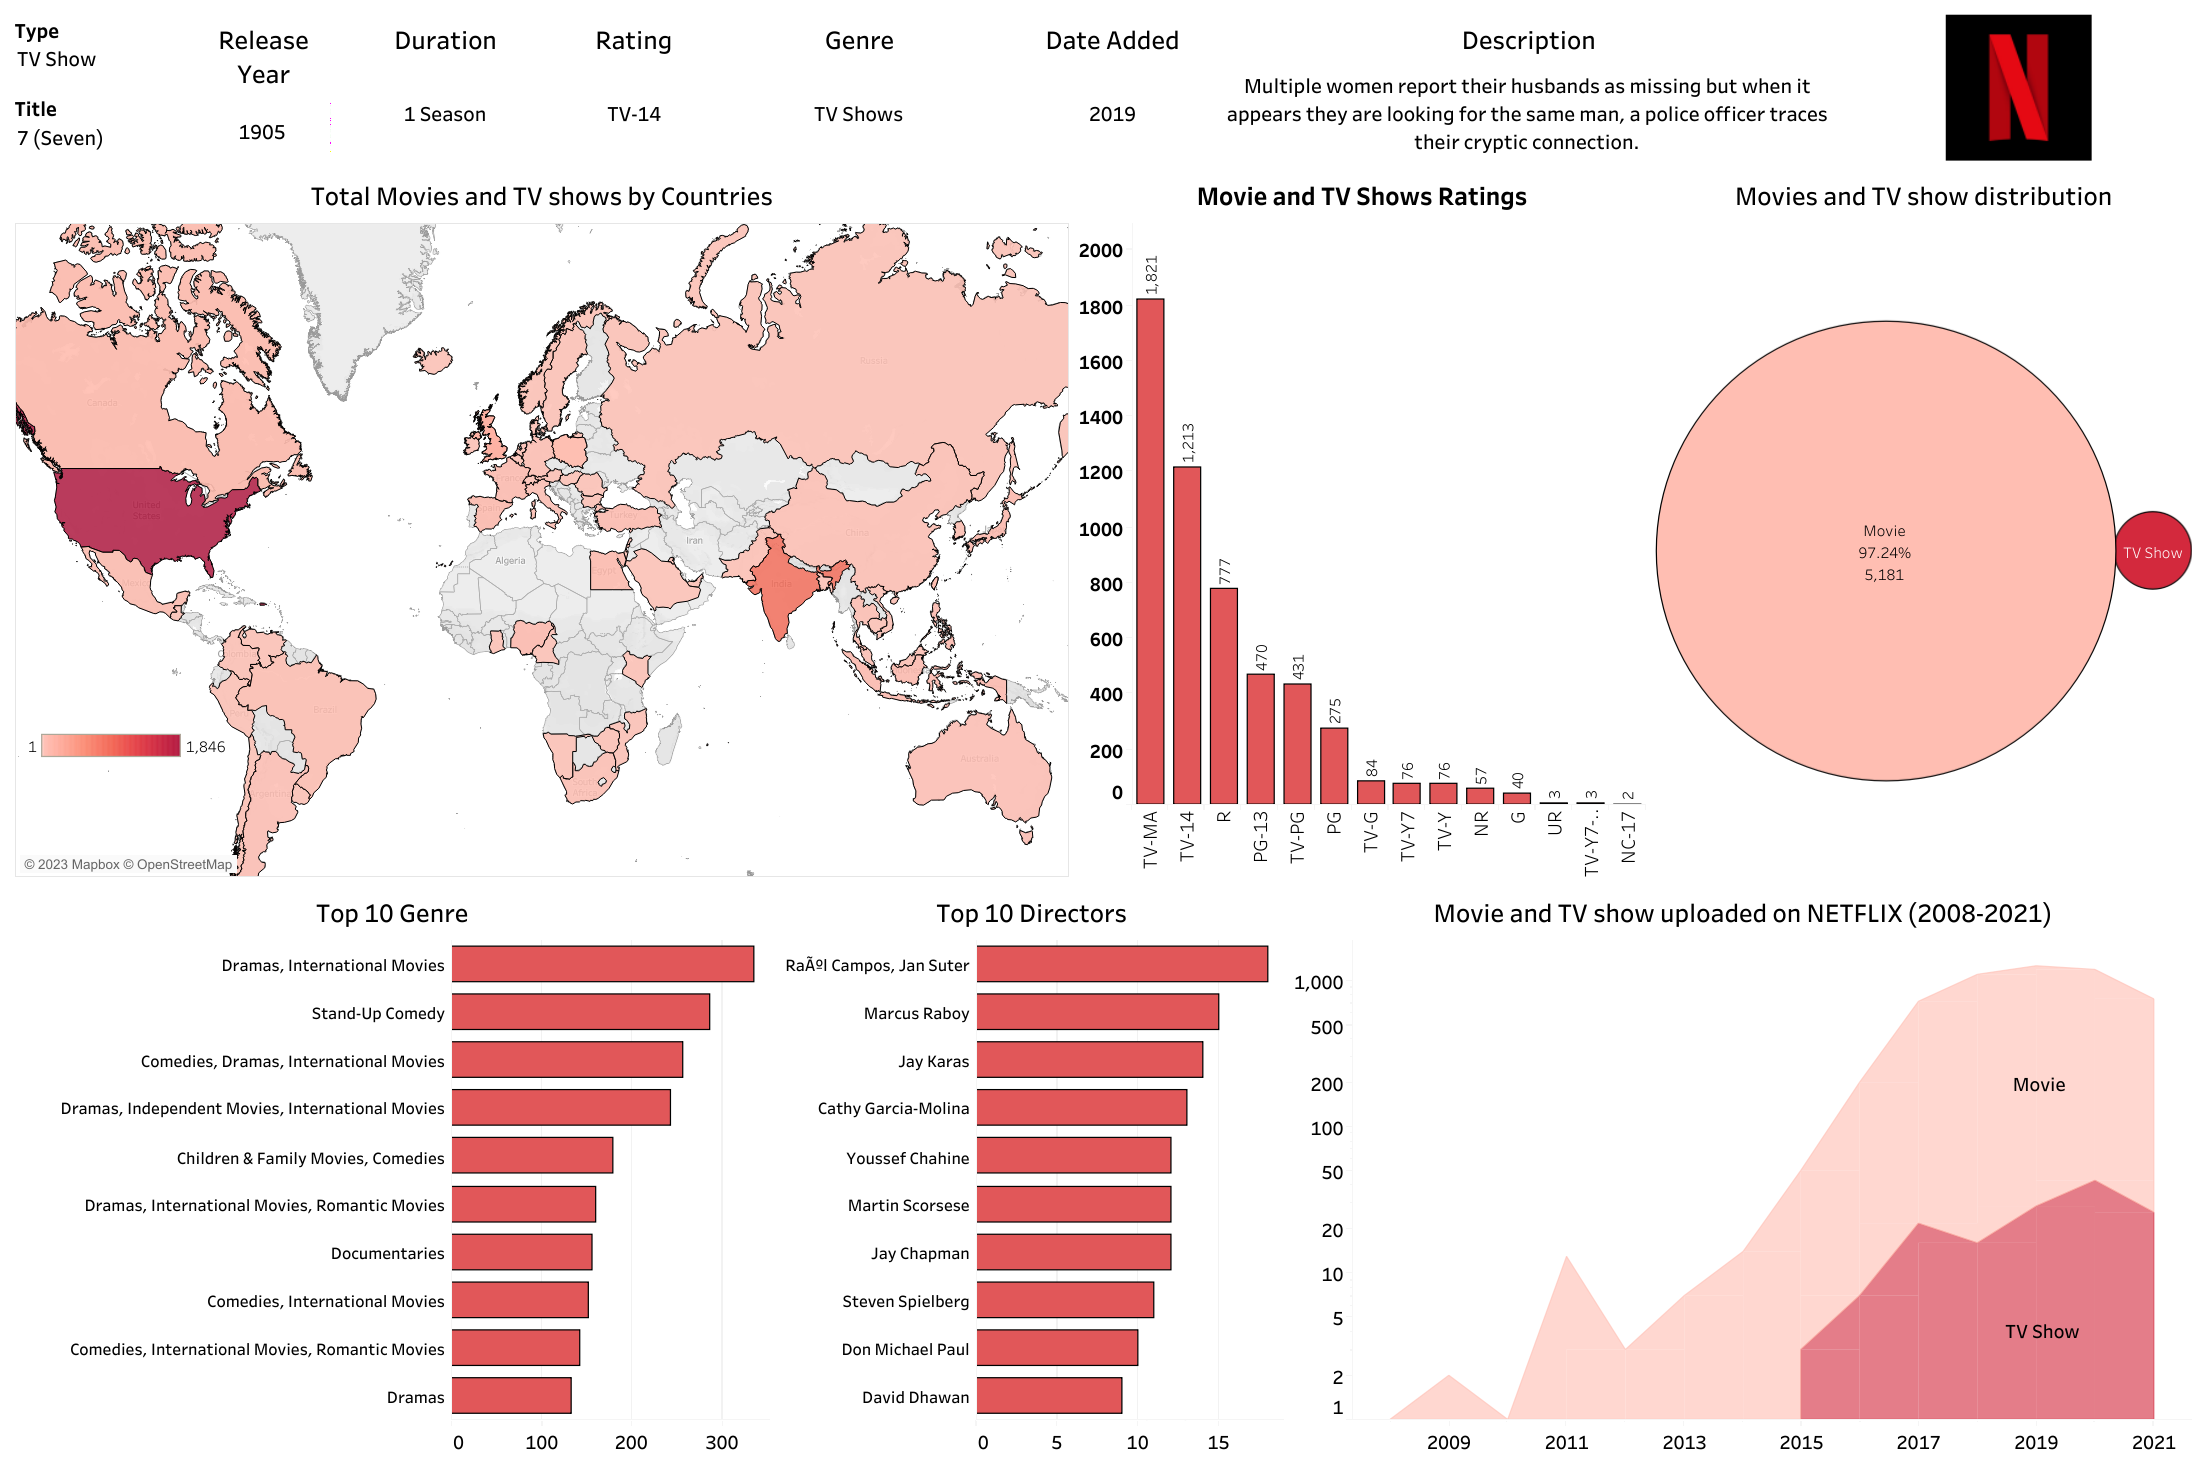

The page's visual inventory and layout, read from the dashboard file:
{"tool":"tableau","page":{"name":"Netflix","canvas":[1800,1200],"ordinal":0},"visuals":[{"type":"filter","title":"Description","param":"[federated.0zcyadm03ebzto14jlu891l28vic].[none:Type:nk]","box":[8,8,148.6,64]},{"type":"worksheet","title":"Release year","mark":"Automatic","box":[156.6,8,116.1,127]},{"type":"worksheet","title":"Duration","mark":"Automatic","box":[272.7,8,181.2,127]},{"type":"worksheet","title":"Rating","mark":"Automatic","box":[454,8,126,127]},{"type":"worksheet","title":"Genre","mark":"Automatic","box":[580,8,242,127]},{"type":"worksheet","title":"Date Added","mark":"Automatic","box":[822,8,171,127]},{"type":"worksheet","title":"Description","mark":"Automatic","box":[993,8,508,127]},{"type":"image","param":"Image/NETFLIX icon.jpg","box":[1501,8,291,127]},{"type":"filter","title":"Description","param":"[federated.0zcyadm03ebzto14jlu891l28vic].[none:Title:nk]","box":[8,72,148.6,63]},{"type":"worksheet","title":"Movie by countries","mark":"Multipolygon","box":[8,135,868,585]},{"type":"worksheet","title":"Ratings","mark":"Automatic","rows":["Show_id"],"cols":["rating"],"box":[876,135,470,585]},{"type":"worksheet","title":"Movies and TV show distribution","mark":"Circle","box":[1346,135,446,585]},{"type":"legend","title":"Movie by countries","param":"[federated.0zcyadm03ebzto14jlu891l28vic].[ctd:Show_id:qk]","box":[19,595,170,29]},{"type":"worksheet","title":"Top 10 Genre","mark":"Automatic","rows":["listed_in"],"cols":["Show_id"],"box":[8,720,624,472]},{"type":"worksheet","title":"Top 10 Directors","mark":"Automatic","rows":["Director"],"cols":["Show_id"],"box":[632,720,419,472]},{"type":"worksheet","title":"Type over time","mark":"Area","rows":["Type"],"cols":["Date_added"],"box":[1051,720,741,472]}]}

Visuals, with their boxes in screenshot pixels (x1, y1, x2, y2), scaled from the page's 1800x1200 canvas onto the 2206x1470 screenshot:
"Description" filter: <bbox>10, 10, 192, 88</bbox>
"Release year" worksheet: <bbox>192, 10, 334, 165</bbox>
"Duration" worksheet: <bbox>334, 10, 556, 165</bbox>
"Rating" worksheet: <bbox>556, 10, 711, 165</bbox>
"Genre" worksheet: <bbox>711, 10, 1007, 165</bbox>
"Date Added" worksheet: <bbox>1007, 10, 1217, 165</bbox>
"Description" worksheet: <bbox>1217, 10, 1840, 165</bbox>
image: <bbox>1840, 10, 2196, 165</bbox>
"Description" filter: <bbox>10, 88, 192, 165</bbox>
"Movie by countries" worksheet (Multipolygon marks): <bbox>10, 165, 1074, 882</bbox>
"Ratings" worksheet: <bbox>1074, 165, 1650, 882</bbox>
"Movies and TV show distribution" worksheet (Circle marks): <bbox>1650, 165, 2196, 882</bbox>
"Movie by countries" legend: <bbox>23, 729, 232, 764</bbox>
"Top 10 Genre" worksheet: <bbox>10, 882, 775, 1460</bbox>
"Top 10 Directors" worksheet: <bbox>775, 882, 1288, 1460</bbox>
"Type over time" worksheet (Area marks): <bbox>1288, 882, 2196, 1460</bbox>
